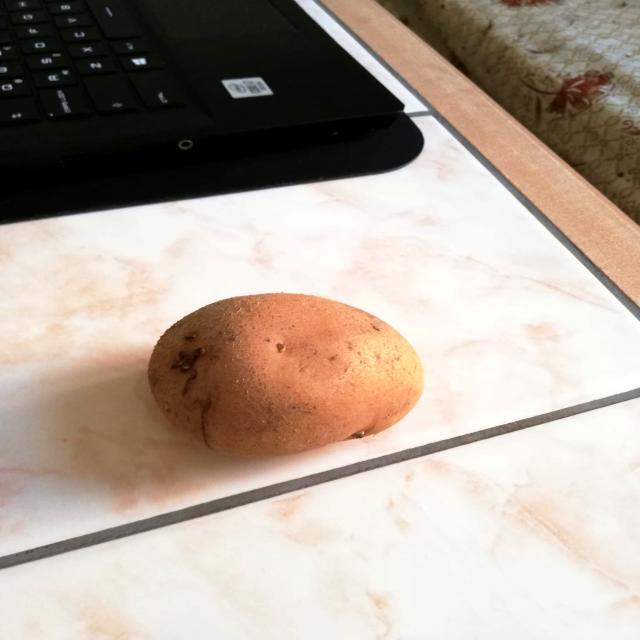potato: (142, 284, 432, 462)
